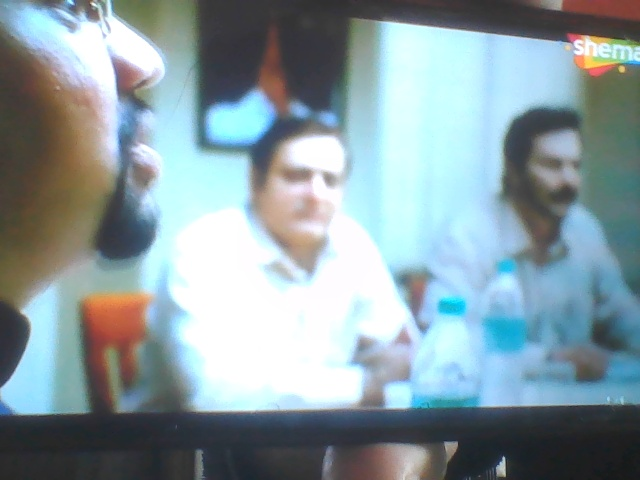fake: (252, 102, 357, 251)
